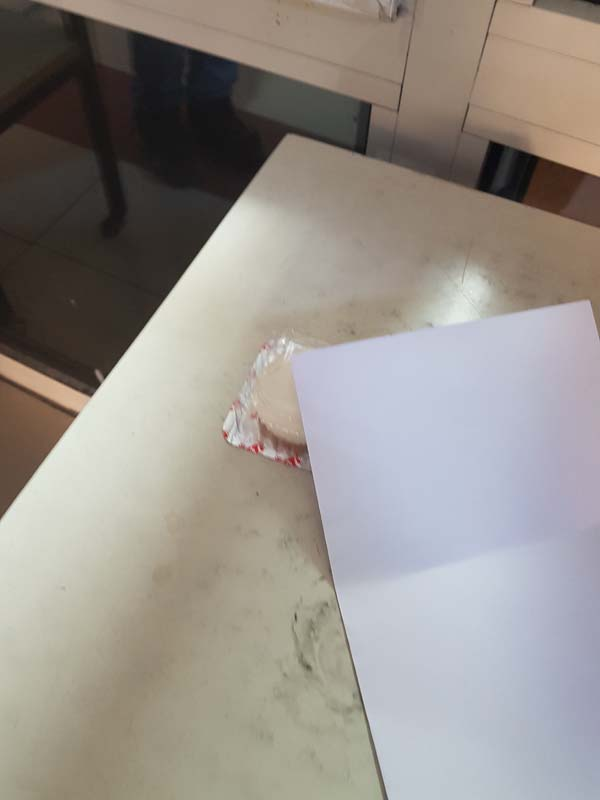etipuf: (222, 331, 343, 466)
